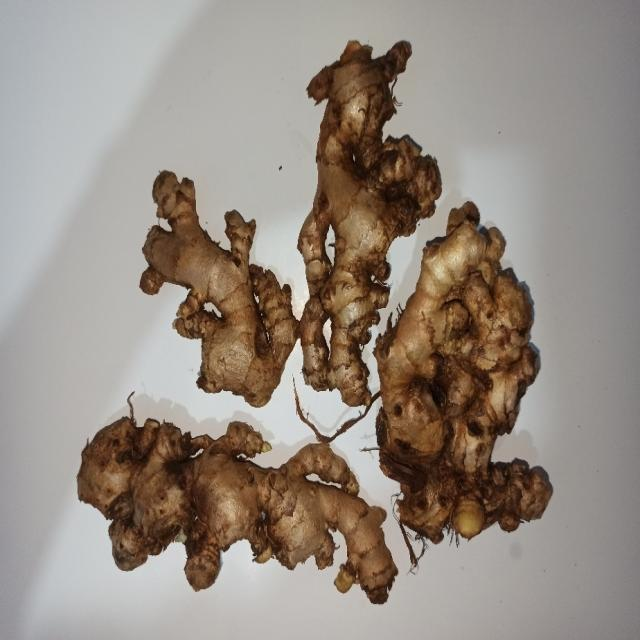ginger: (82, 418, 389, 604), (375, 217, 551, 538), (295, 39, 444, 409), (143, 167, 289, 407)
